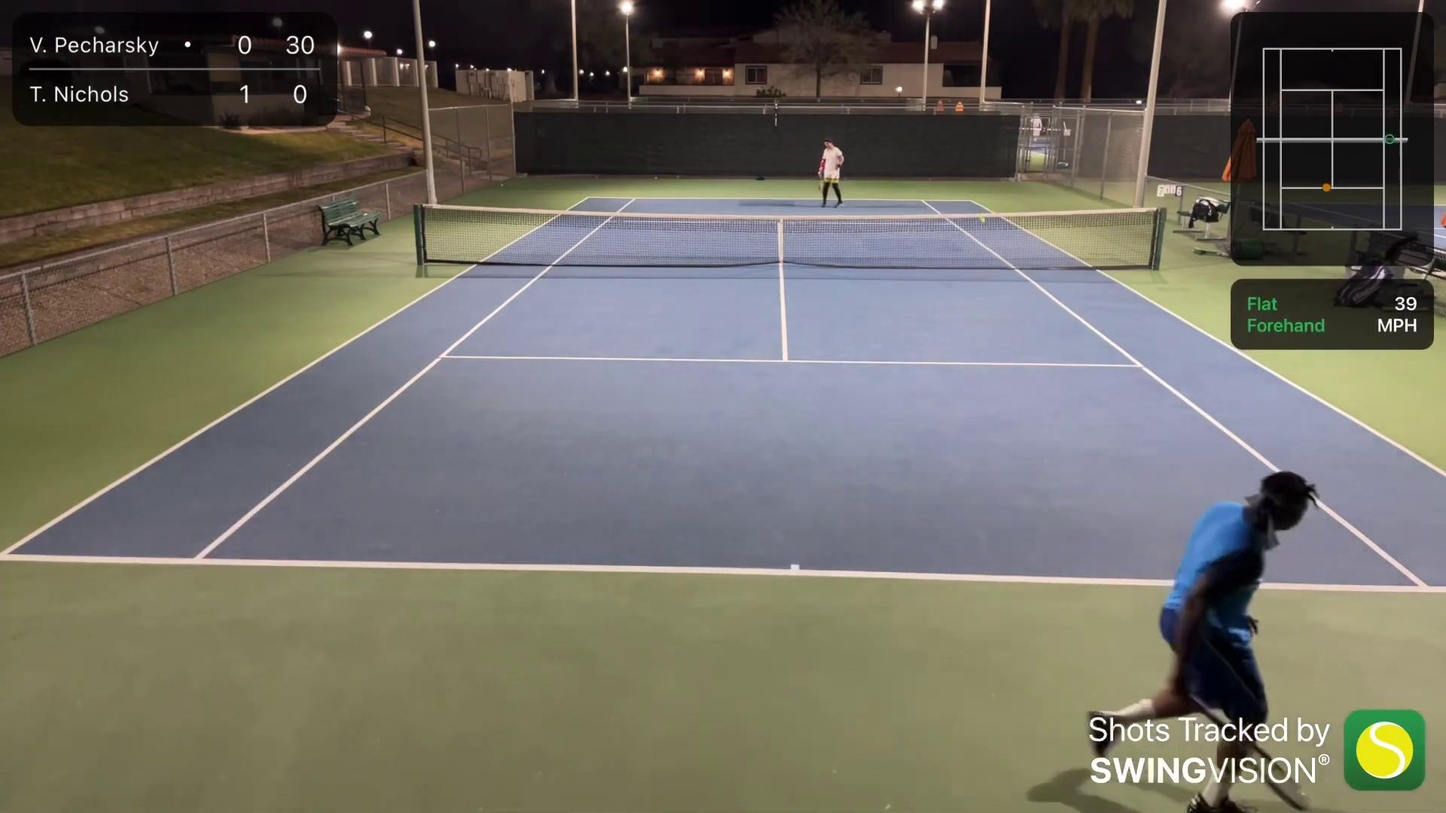ball: (980, 218, 985, 224)
